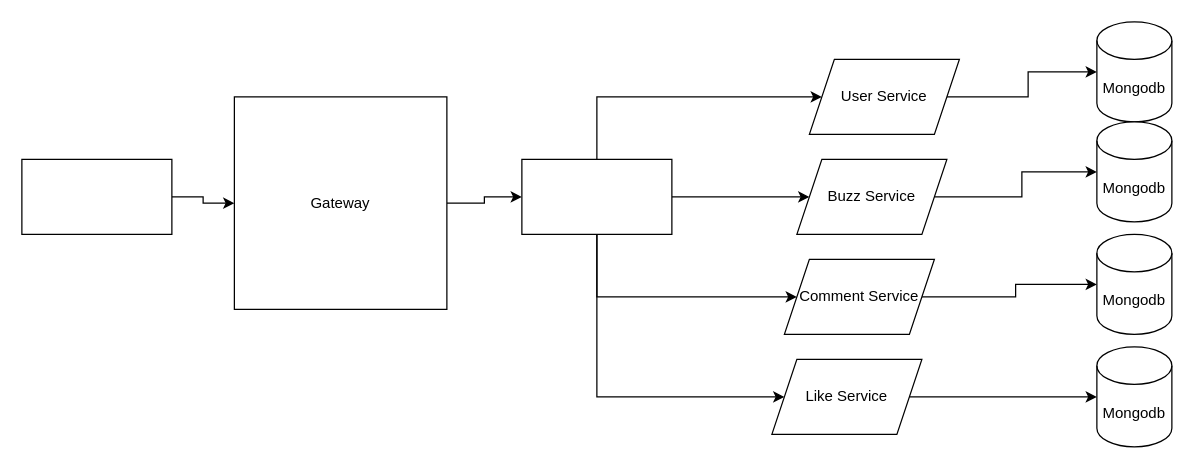
Some shapes in this 1194 by 469 pixel diagram are drawn without their labels. Each missing label, with the box of its shape:
Backend: (521, 158, 672, 234)
Frontend: (21, 158, 172, 234)
